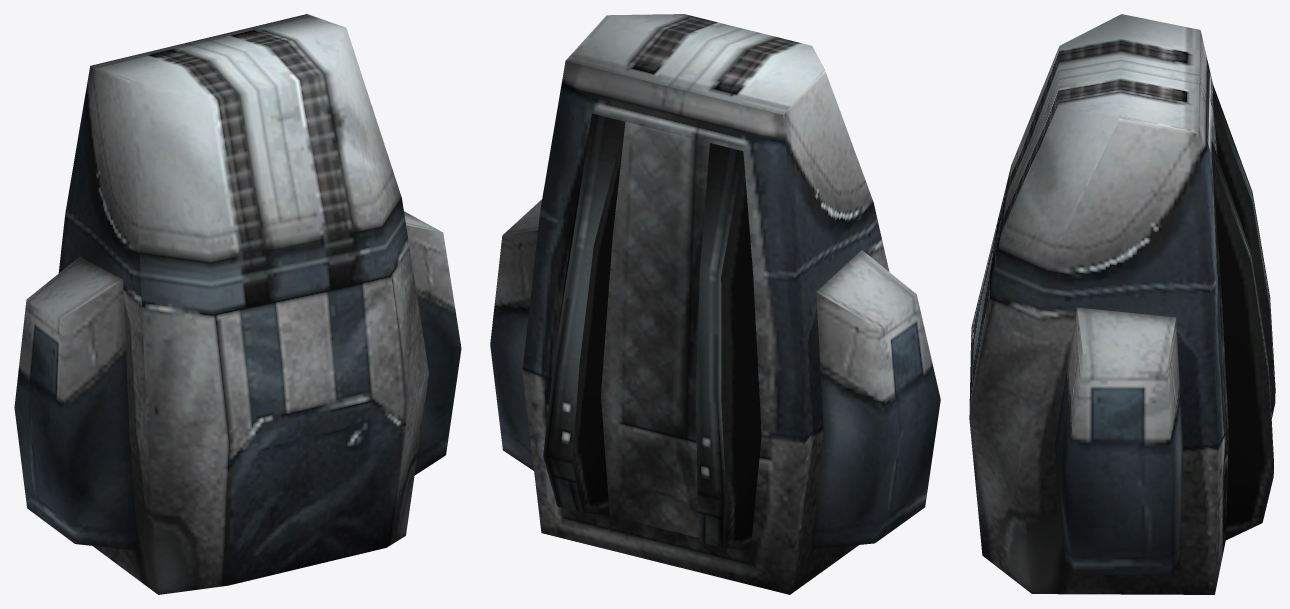
Rendered from bagpack1_2.glb.
3 views of the same model, side by side, from view 1: azimuth 30°, elevation 25°; view 2: azimuth 150°, elevation 25°; view 3: azimuth 270°, elevation 25° (orthographic). The views are drawn at different scales.
Parts seen in each view (by area): view 1: Box01; view 2: Box01; view 3: Box01.
Boxes of the visible parts, x1,y1,x2,y2 form: Box01: [14, 14, 461, 594]; Box01: [490, 14, 940, 594]; Box01: [969, 14, 1275, 594].
Size of the model in its own units: 28.72 by 33.53 by 19.79.
Materials: 1 (1 with a texture image).
